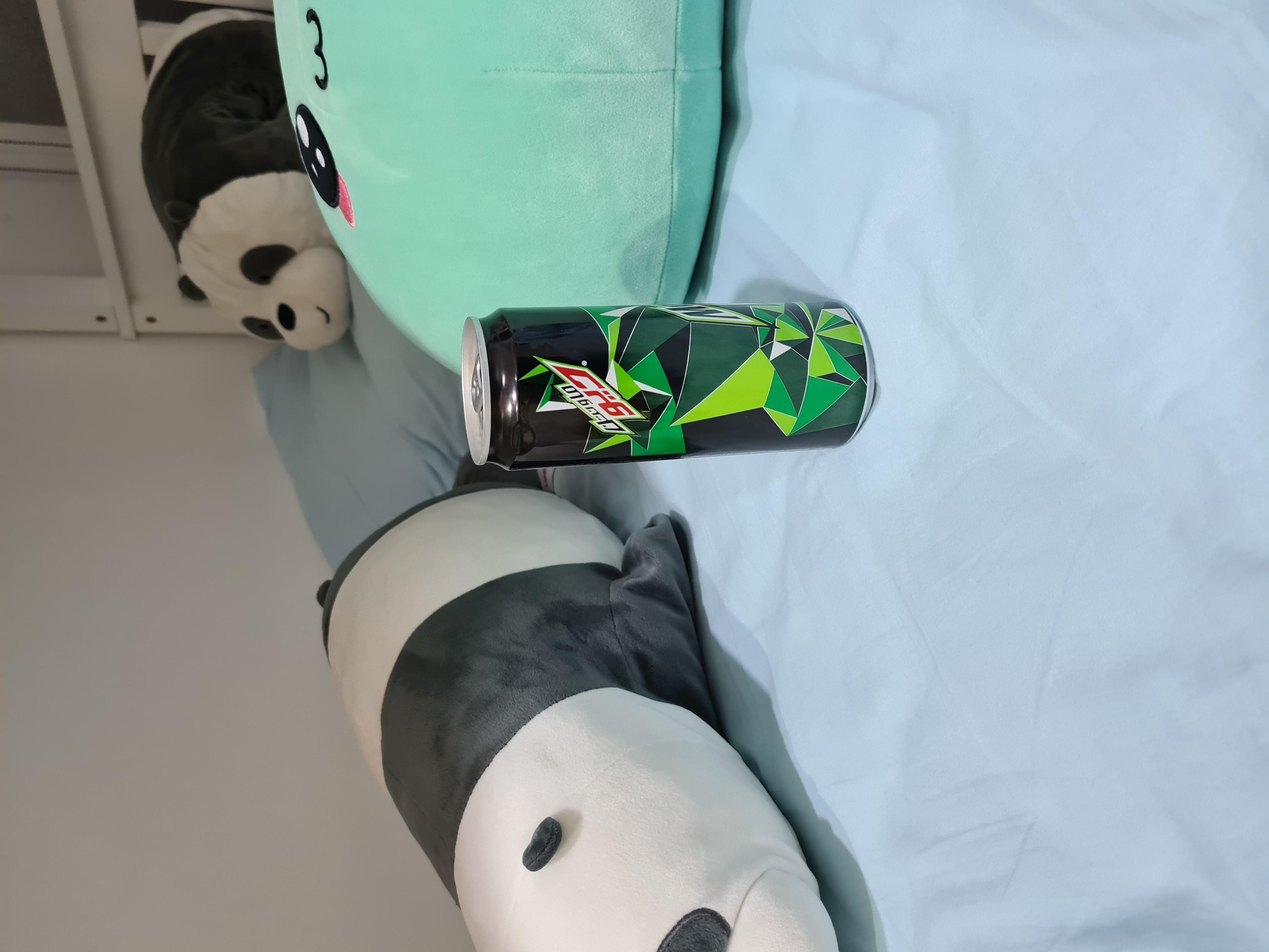debris: (449, 291, 883, 479)
